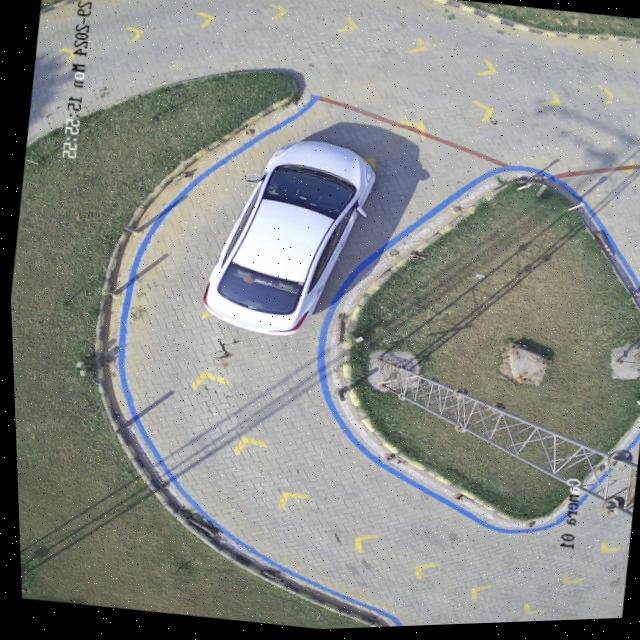car: (202, 138, 376, 337)
